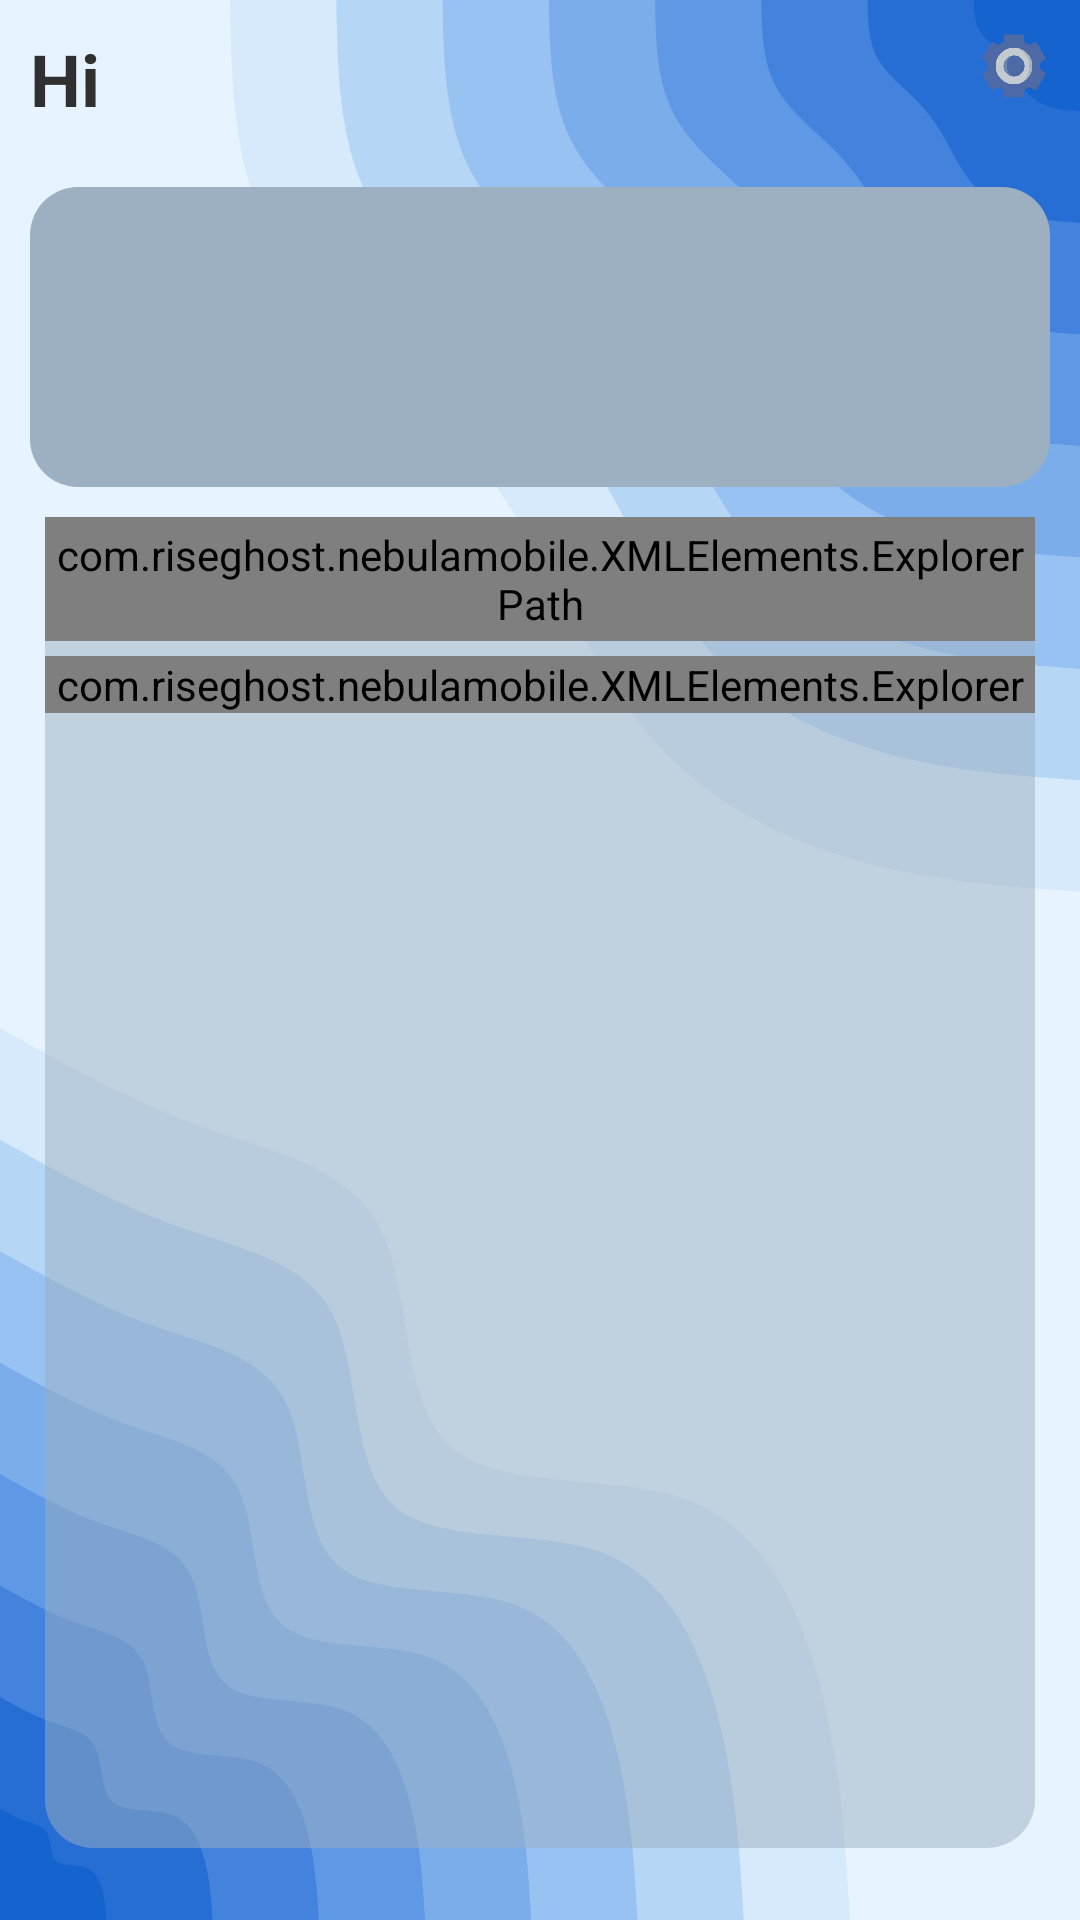

Where to tap for icons on this 1080w x 1920h app screen, as [x,y]:
sett: [1013,66]
